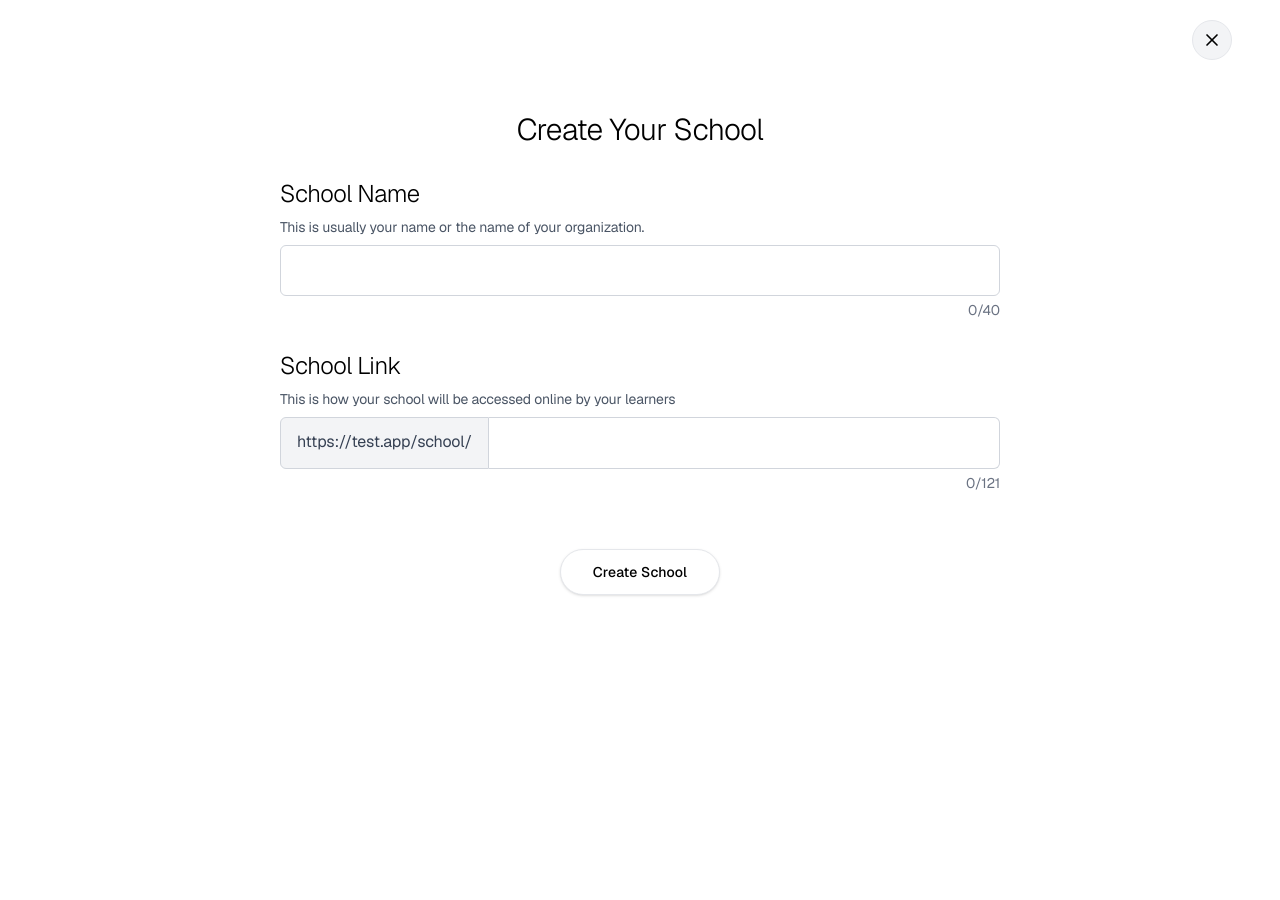
CreateSchool Page › Error State Display › should clear error when form is resubmitted
The width and height of the screenshot is (1280, 900).
Type "Test School" into the 1st field.
click(640, 271); type("Test School")  # box [280,245,1000,296]
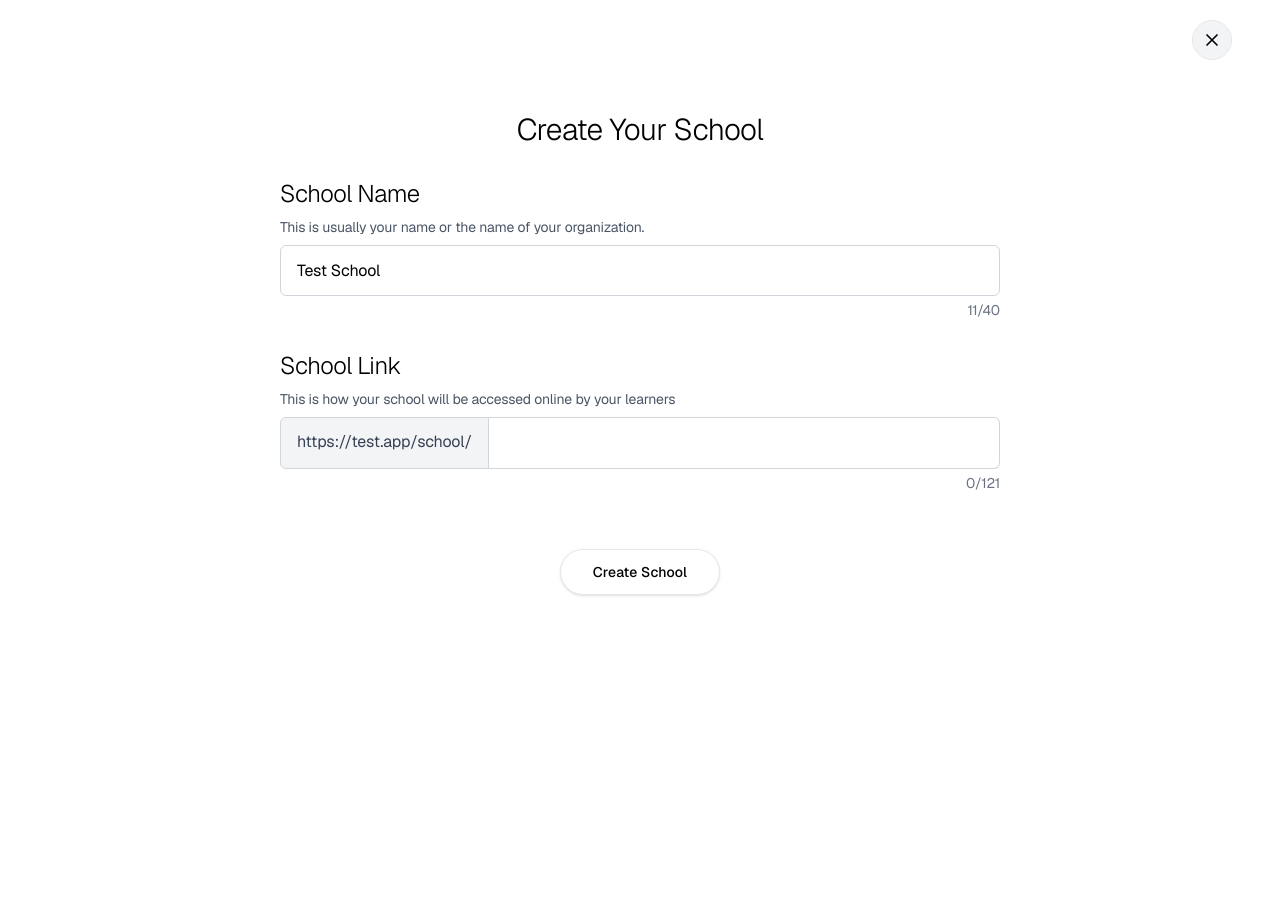
Type "existing-slug" into the field with id "slug".
click(744, 443); type("existing-slug")  # box [489,417,1000,469]
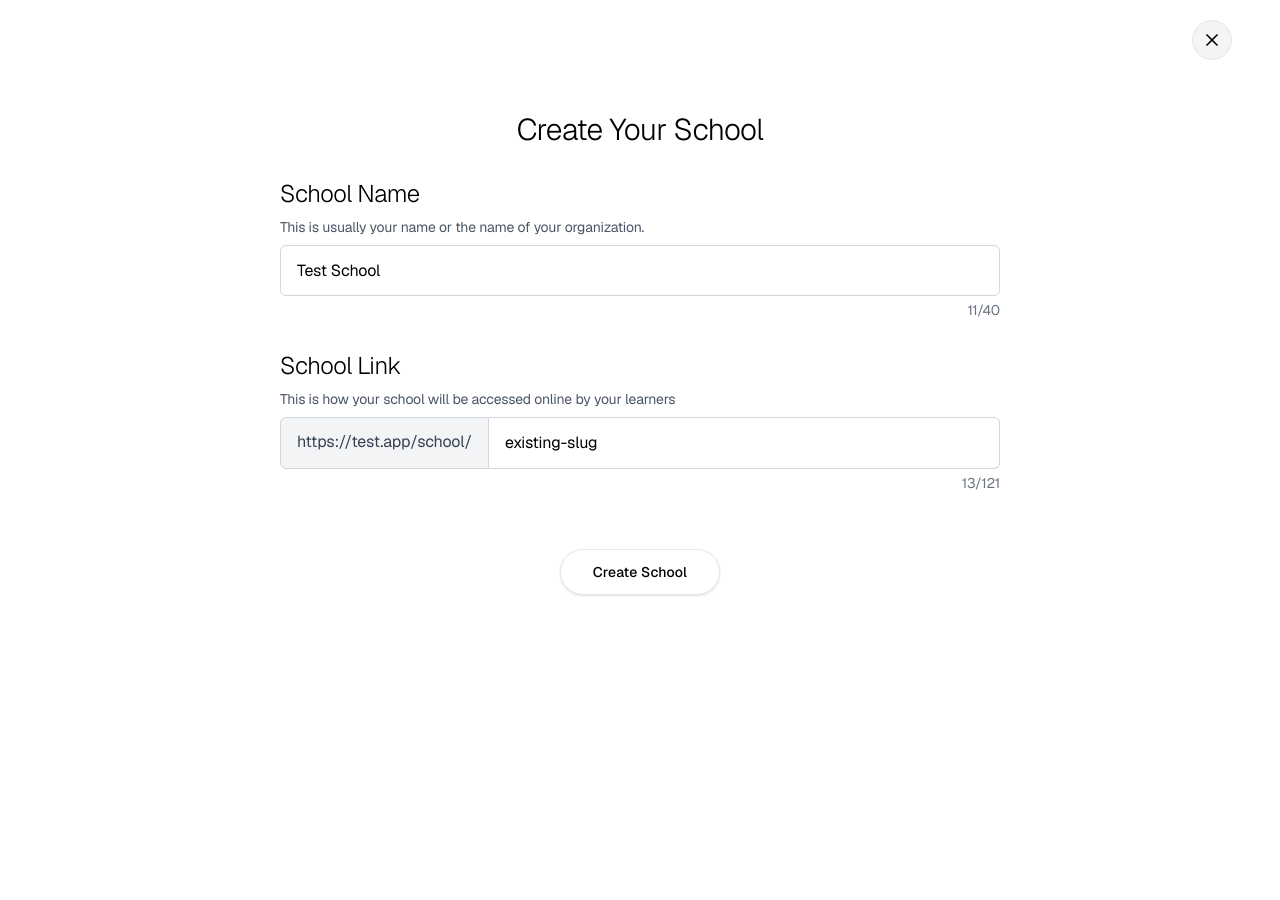
Click the button "Create School".
click(640, 572)  # box [560,549,720,595]
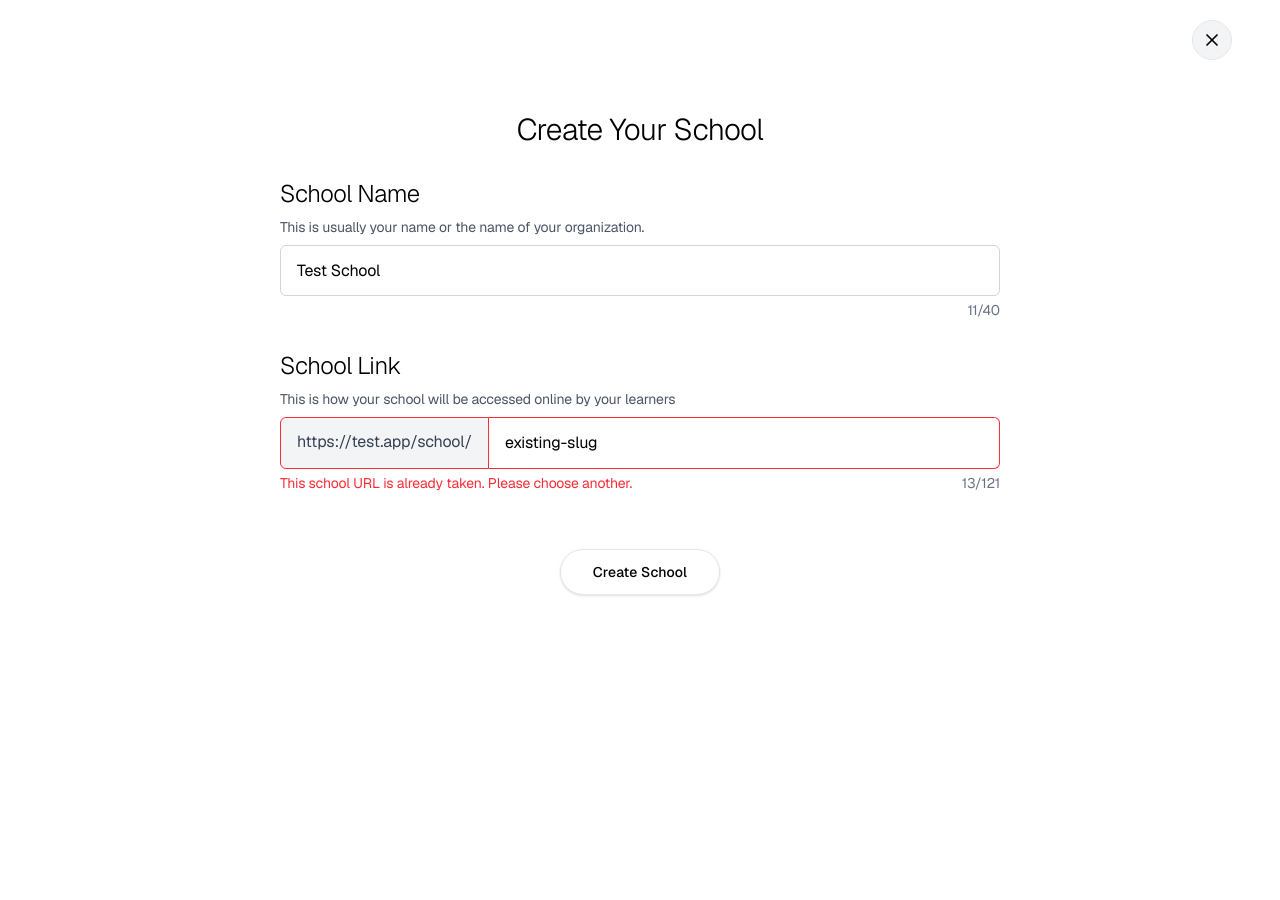
Expected: the text "This school URL is already taken. Please choose another." is shown, [280,473,632,493]
Replace the text in the field with id "slug" with "new-slug" at [744, 443], box [489,417,1000,469]
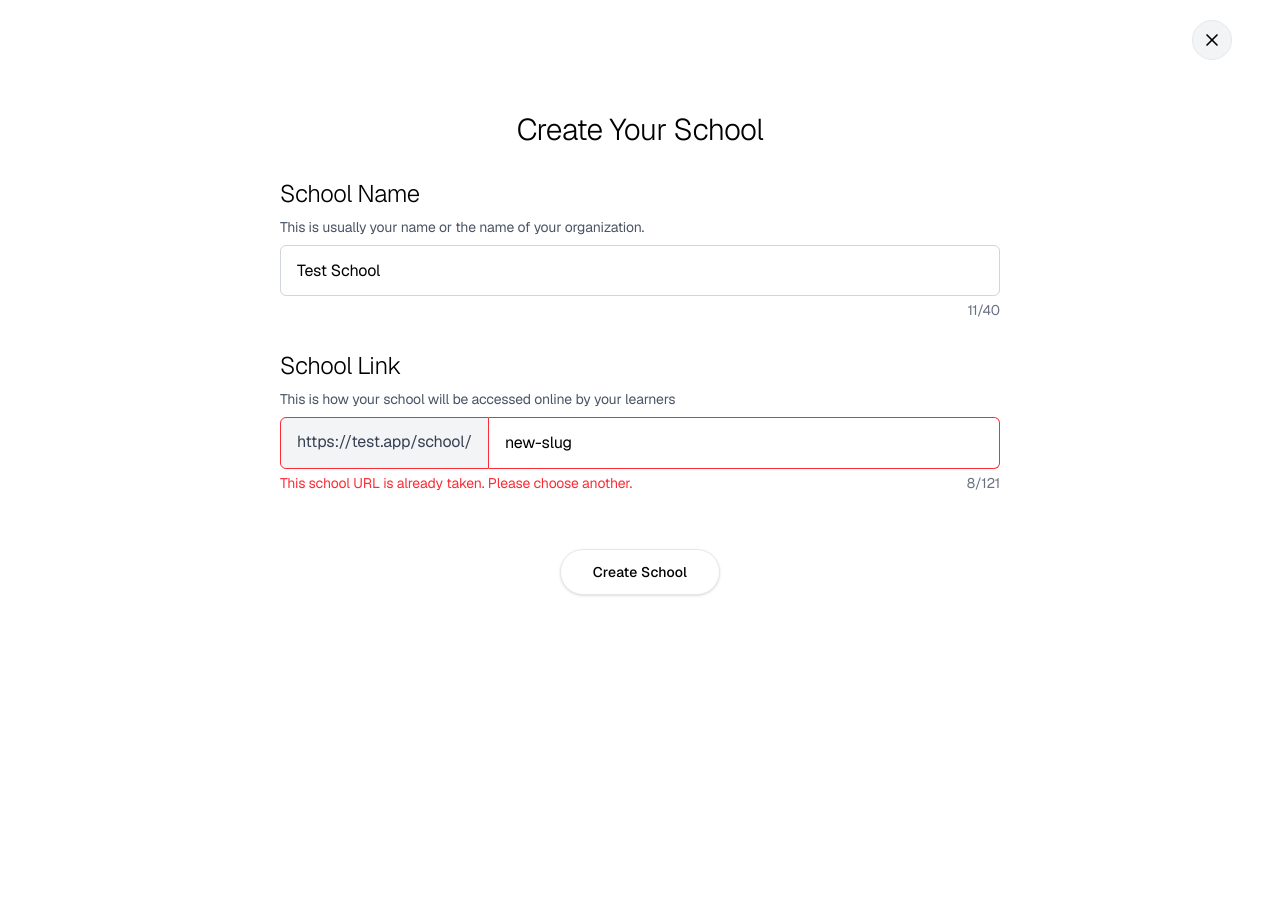
Click the button "Create School".
click(640, 572)  # box [560,549,720,595]
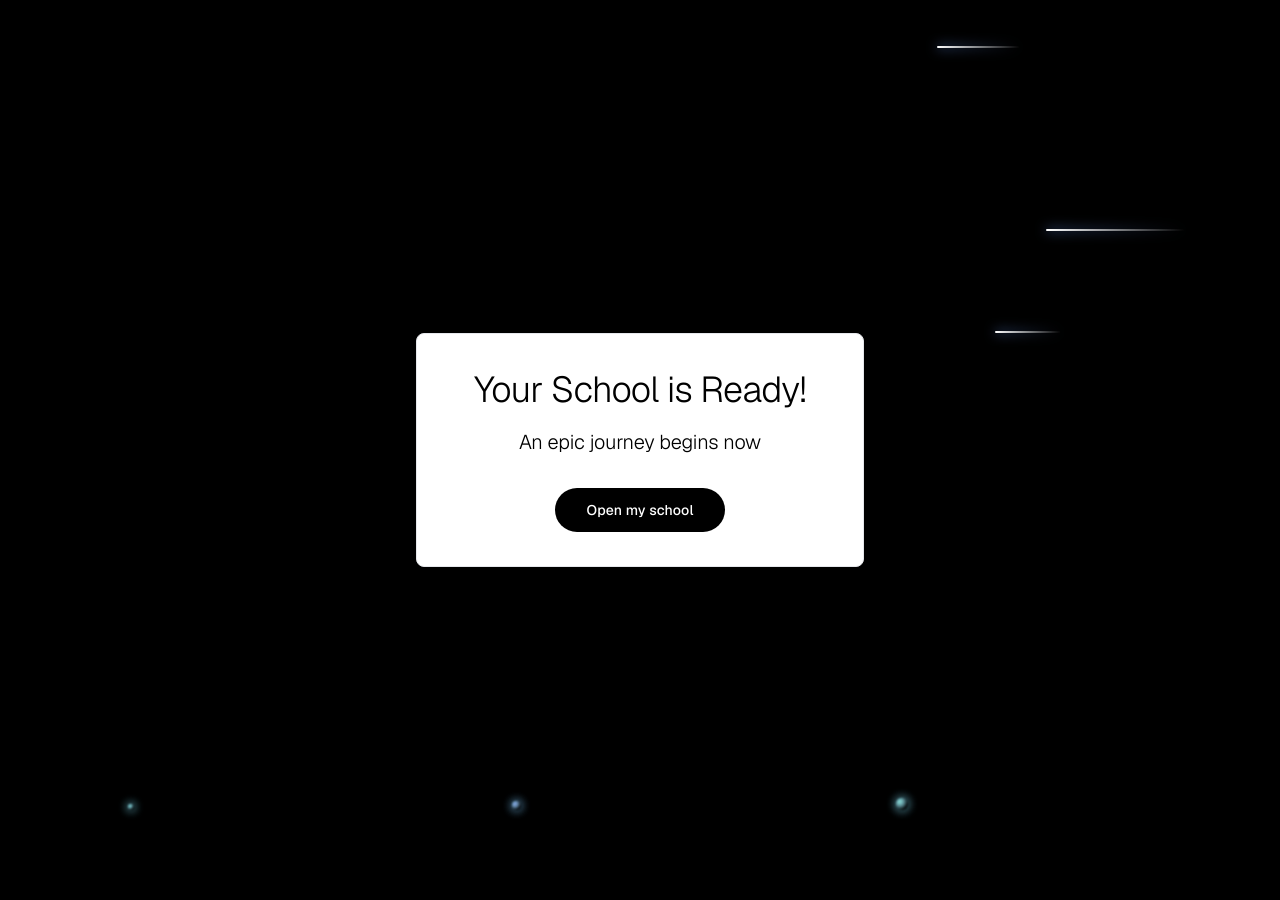
Expected: the text "This school URL is already taken. Please choose another." is gone
